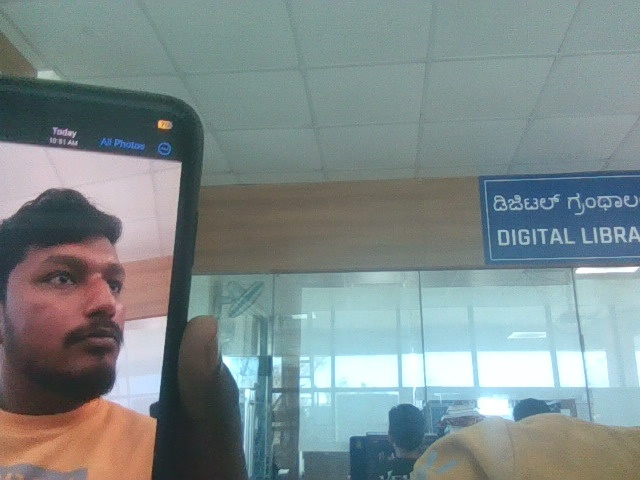fake: (0, 154, 175, 402)
